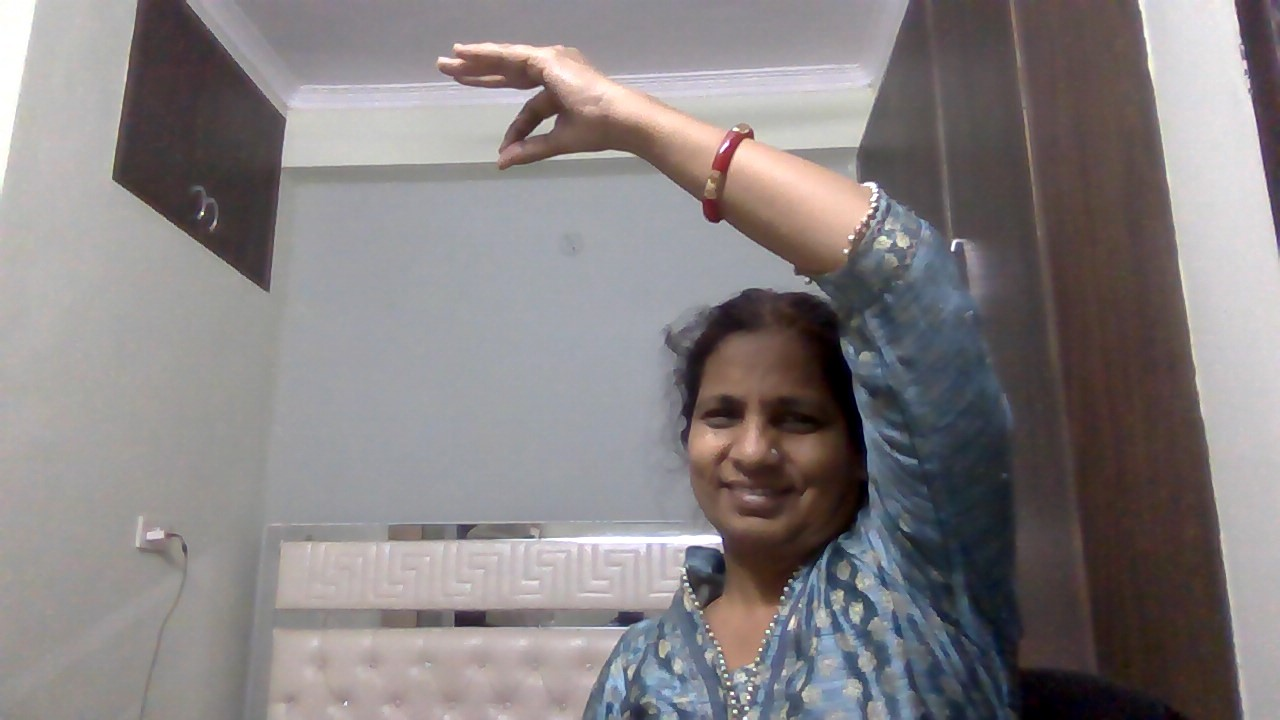Copy: (432, 31, 643, 191)
